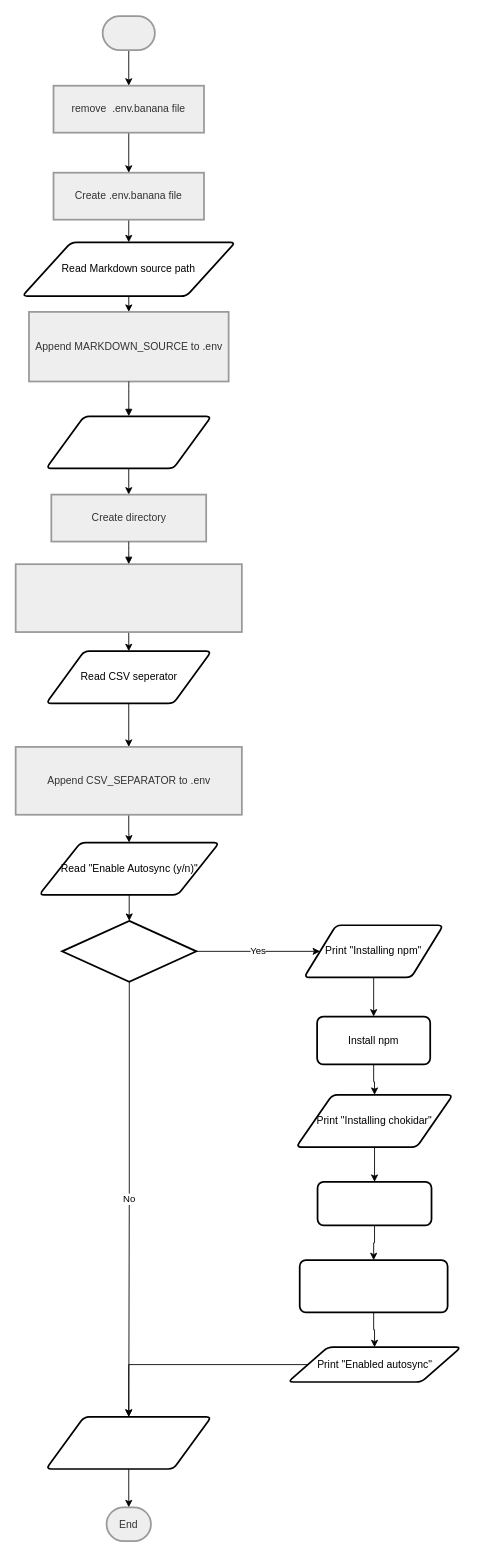
Some shapes in this 477 by 1556 pixel diagram are drawn without their labels. Here are the shapes that lost their labels. From the top down, the centre of each, then its label:
(128,32): Start
(128,442): Read output directory
(128,597): Append CSV_TARGET to .env
(129,951): Is Autosync "y"?
(374,1203): Install chokidar
(373,1286): Grant execution rights to md2csv.sh
(128,1442): Print "Successfully set up MD2BananaCSV!"
